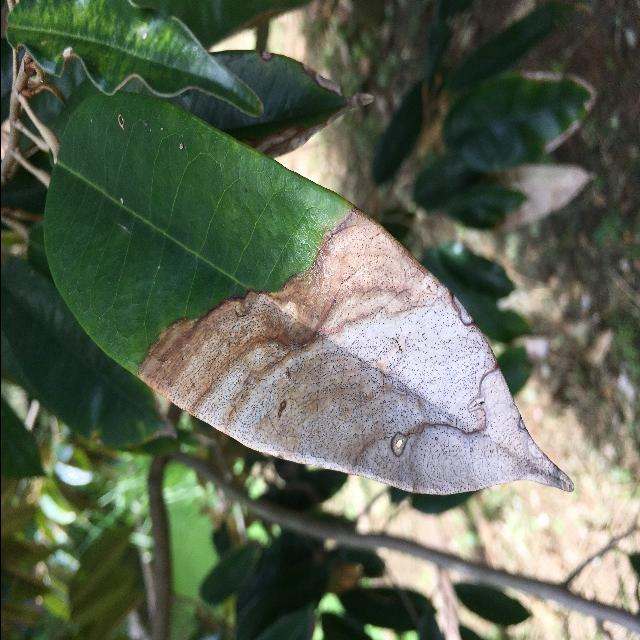Leaf Blight: (36, 86, 579, 505)
